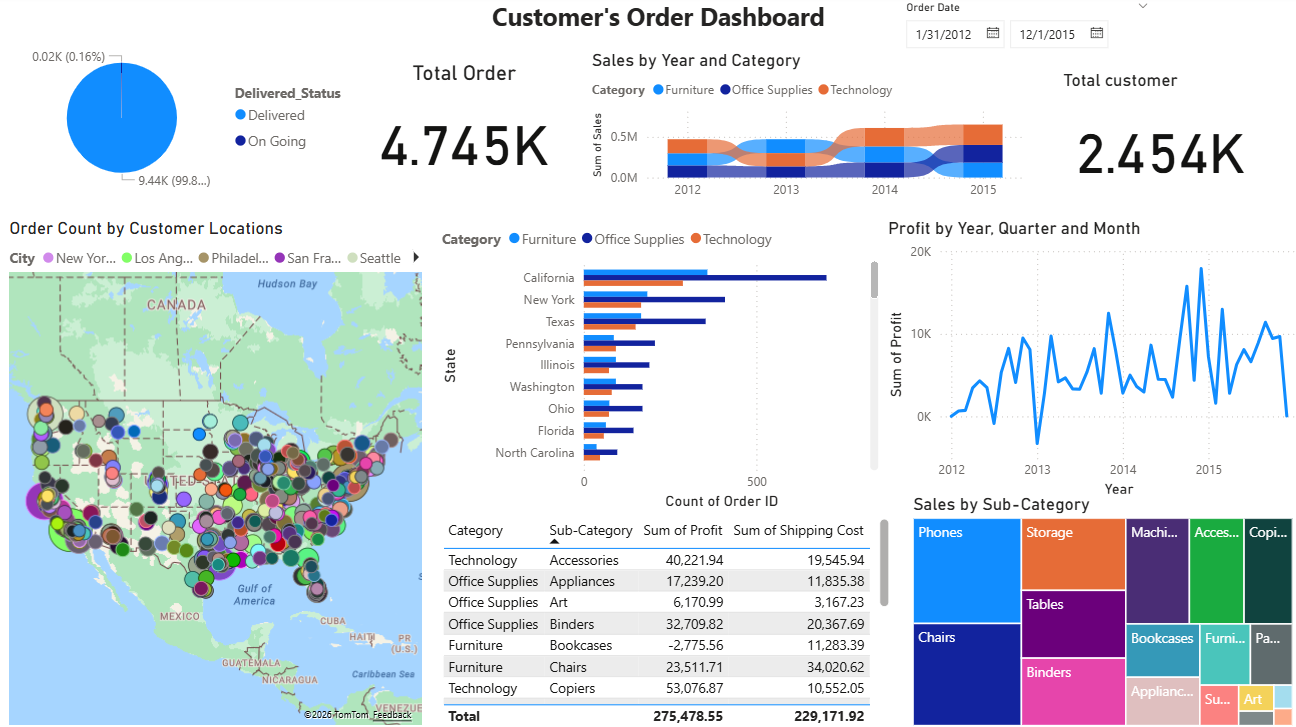

Layout of this report page (visuals, bound fields, positions):
{"tool":"powerbi","page":{"name":"Customer Order","canvas":[1280,720],"ordinal":0},"visuals":[{"type":"azureMap","title":"Order Count by Customer Locations","fields":{"Y":["worldcities.lat"],"X":["worldcities.lng"],"Series":["Orders.City"],"Size":["CountNonNull(Orders.Order ID)"]},"box":[7,218,413,502],"z":0},{"type":"textbox","box":[478.8,0,363.8,42.5],"z":1000},{"type":"slicer","fields":{"Values":["Orders.Order Date"]},"box":[877,0,262,62],"z":2000},{"type":"cardVisual","title":"Total Order","fields":{"Data":["Count(Orders.Order ID)"]},"box":[348,63,217,135],"z":3000},{"type":"clusteredBarChart","fields":{"Y":["Count(Orders.Order ID)"],"Series":["Orders.Category"],"Category":["Orders.State"]},"box":[430,218,437,290],"z":4000},{"type":"pieChart","fields":{"Category":["Orders.Delivered_Status"],"Y":["CountNonNull(Orders.Order ID)"]},"box":[7,43,341,155],"z":5000},{"type":"tableEx","fields":{"Values":["Orders.Category","Orders.Sub-Category","Sum(Orders.Profit)","Sum(Orders.Shipping Cost)"]},"box":[430,508,447,212],"z":6000},{"type":"lineChart","title":"Profit by Year, Quarter and Month","fields":{"Category":["Orders.Order Date.Variation.Date Hierarchy.Year","Orders.Order Date.Variation.Date Hierarchy.Quarter","Orders.Order Date.Variation.Date Hierarchy.Month","Orders.Order Date.Variation.Date Hierarchy.Day"],"Y":["Sum(Orders.Profit)"]},"box":[867,218,413,279],"z":7000},{"type":"treemap","title":"Sales by Sub-Category","fields":{"Group":["Orders.Sub-Category","Orders.Segment"],"Values":["Sum(Orders.Sales)"]},"box":[891,488,381,232],"z":8000},{"type":"ribbonChart","title":"Sales by Year and Category","fields":{"Category":["Orders.Order Date.Variation.Date Hierarchy.Year"],"Series":["Orders.Category"],"Y":["Sum(Orders.Sales)"]},"box":[577,54,431,155],"z":9000},{"type":"cardVisual","title":"Total customer","fields":{"Data":["Count(Orders.Customer ID)"]},"box":[1038,73,234,136],"z":10000}]}

Visuals, with their boxes in screenshot pixels (x1, y1, x2, y2), scaled from the page's 1280x720 canvas onto the 1296x727 screenshot:
"Order Count by Customer Locations" azureMap: rect(7, 220, 425, 726)
textbox: rect(485, 0, 853, 43)
slicer - Orders.Order Date: rect(888, 0, 1153, 63)
"Total Order" cardVisual: rect(352, 64, 572, 200)
clusteredBarChart - Count(Orders.Order ID) x Orders.Category: rect(435, 220, 878, 513)
pieChart - Orders.Delivered_Status x CountNonNull(Orders.Order ID): rect(7, 43, 352, 200)
tableEx - Orders.Category x Orders.Sub-Category: rect(435, 513, 888, 726)
"Profit by Year, Quarter and Month" lineChart: rect(878, 220, 1295, 502)
"Sales by Sub-Category" treemap: rect(902, 493, 1288, 726)
"Sales by Year and Category" ribbonChart: rect(584, 55, 1021, 211)
"Total customer" cardVisual: rect(1051, 74, 1288, 211)
